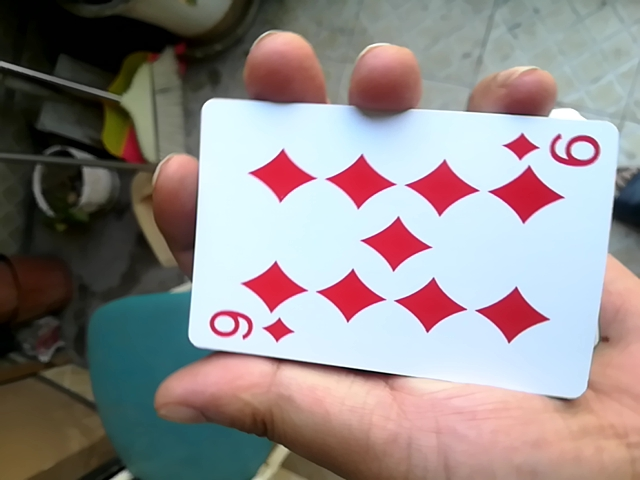fk 9: (168, 84, 639, 404)
